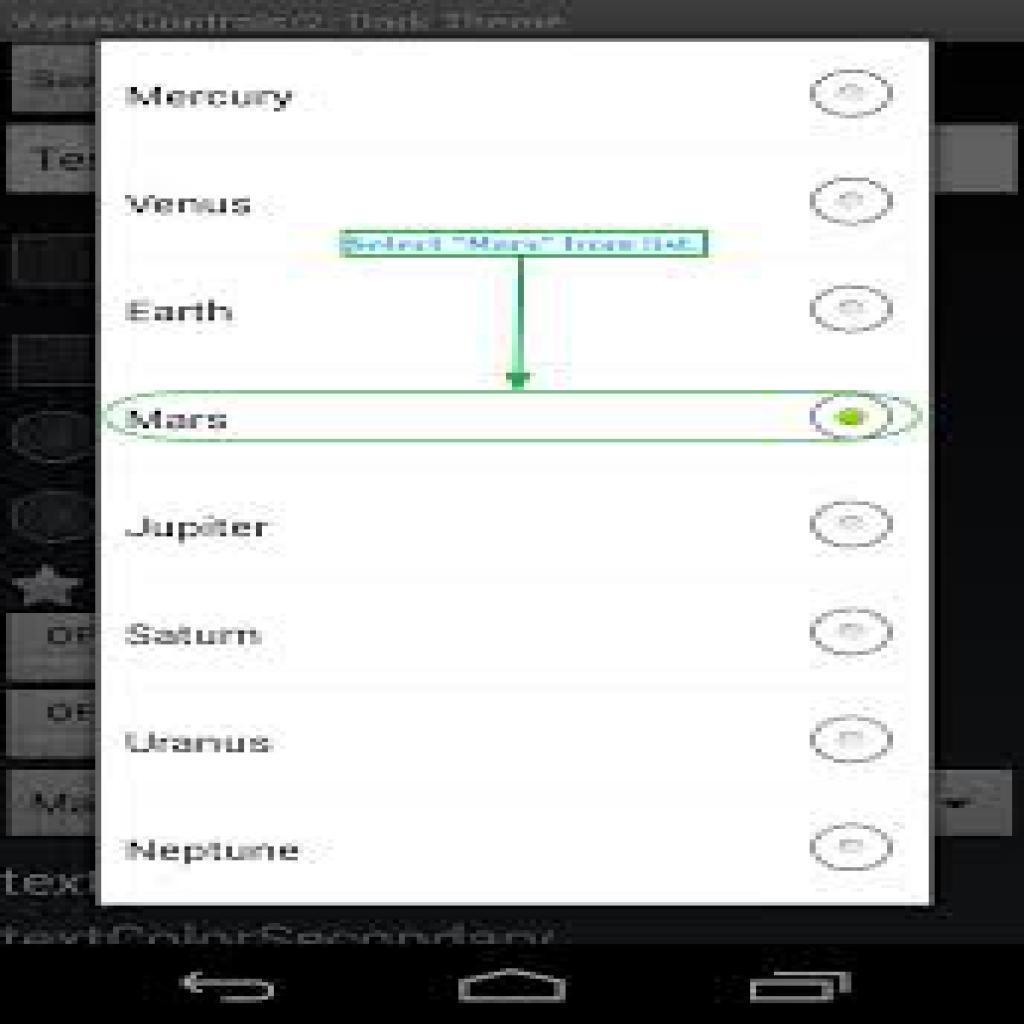radio: (804, 809, 904, 889), (800, 599, 910, 671), (804, 491, 910, 561), (790, 63, 907, 125), (807, 383, 904, 455), (797, 280, 907, 343), (800, 171, 907, 232), (803, 711, 905, 771)
